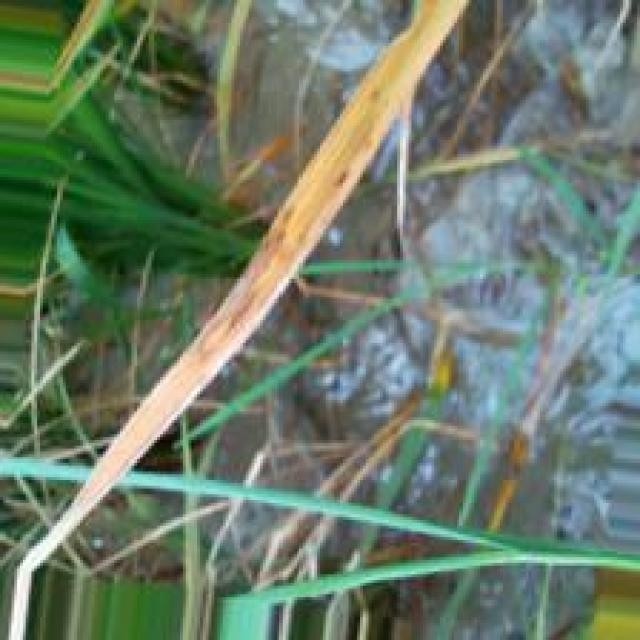Bacterial_Leaf_Blight: (72, 1, 469, 514)
